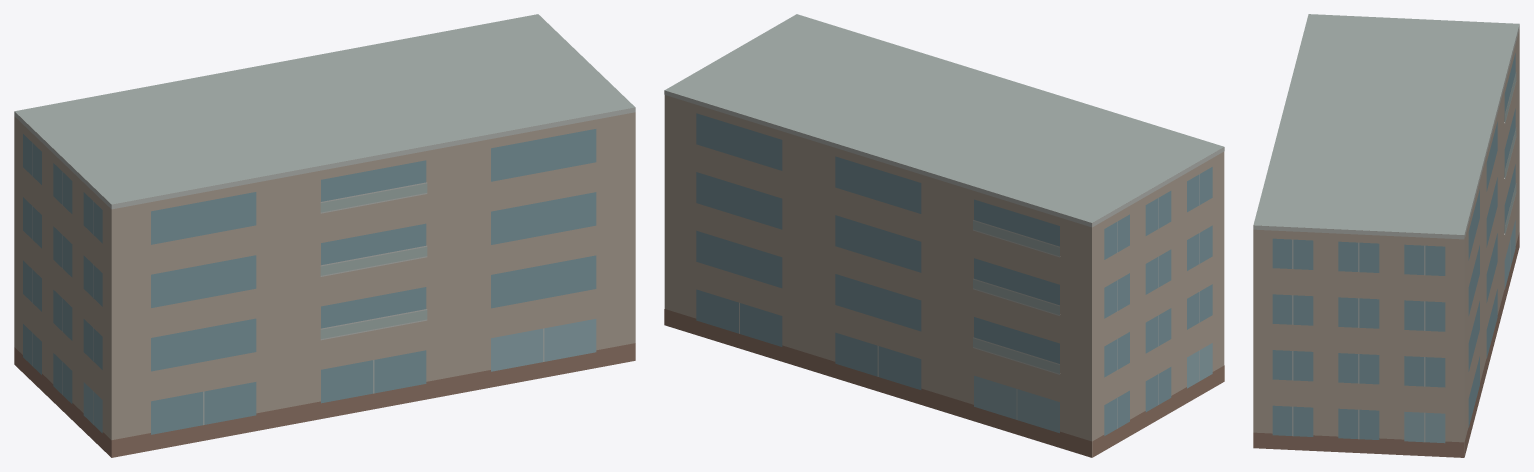
The model's file is survey-upis-32829444.glb.
3 renders of one model, left to right at view 1: azimuth 30°, elevation 25°; view 2: azimuth 150°, elevation 25°; view 3: azimuth 270°, elevation 25°, orthographic. The views are drawn at different scales.
Parts seen in each view (by area): view 1: survey-upis-32829444.tmp; view 2: survey-upis-32829444.tmp; view 3: survey-upis-32829444.tmp.
Boxes of the visible parts, x1=… form: survey-upis-32829444.tmp: x1=14, y1=14, x2=635, y2=457; survey-upis-32829444.tmp: x1=664, y1=14, x2=1224, y2=457; survey-upis-32829444.tmp: x1=1253, y1=14, x2=1519, y2=457.
Bounding box in the file's own units: 27.26 × 12.8 × 13.88.
